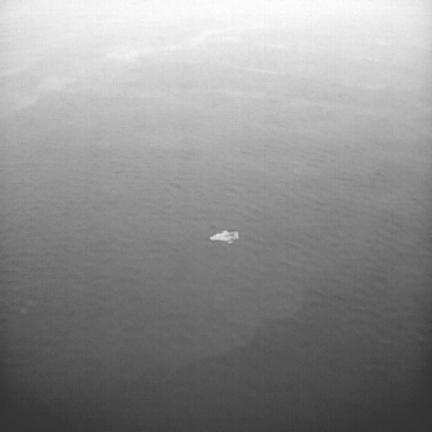flukeprints: (210, 230, 239, 243)
